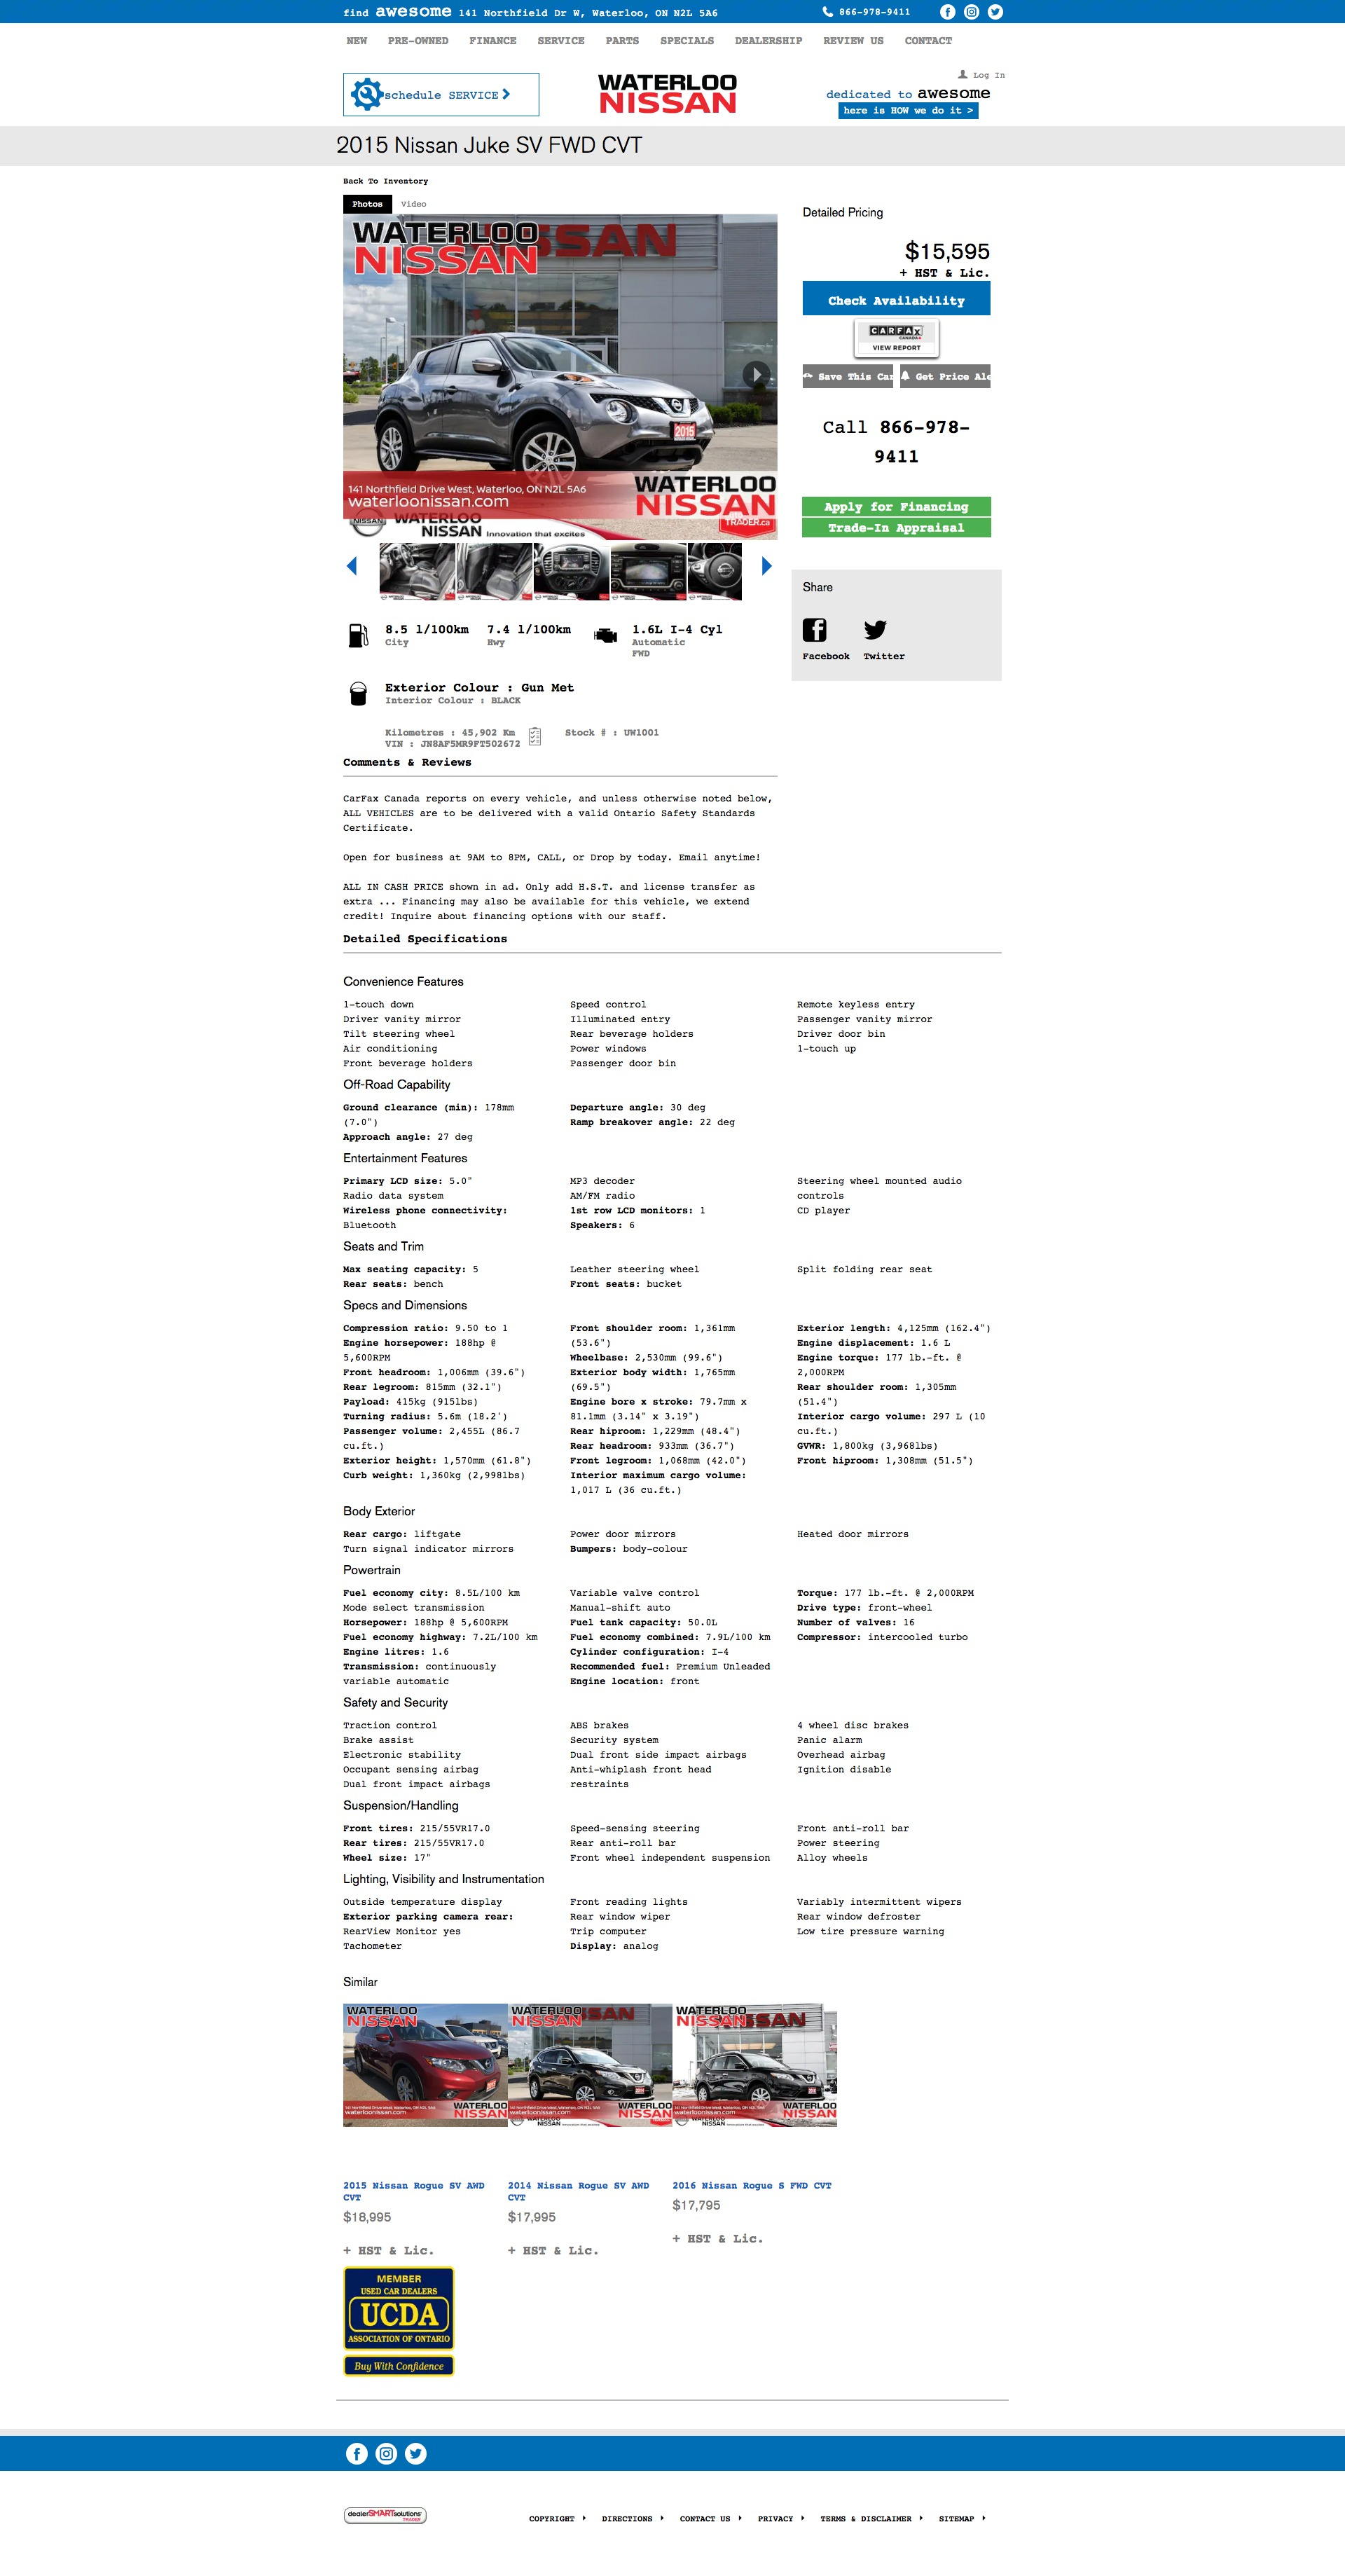car: (763, 555, 773, 576)
